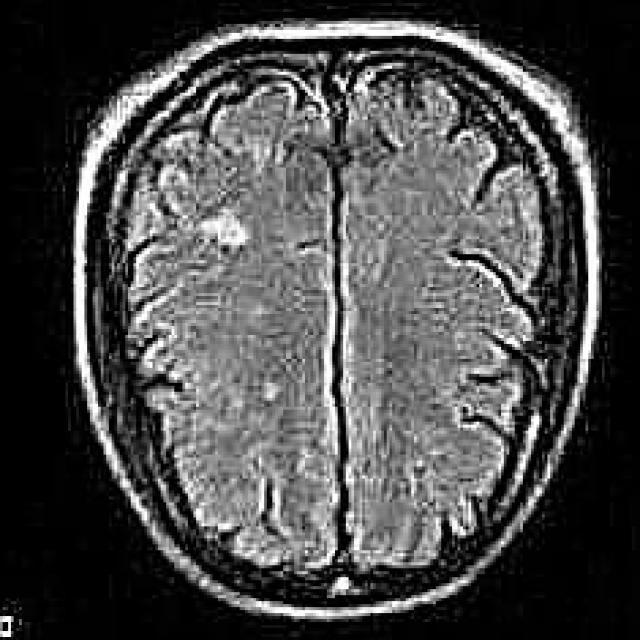notumor: (71, 21, 605, 628)
